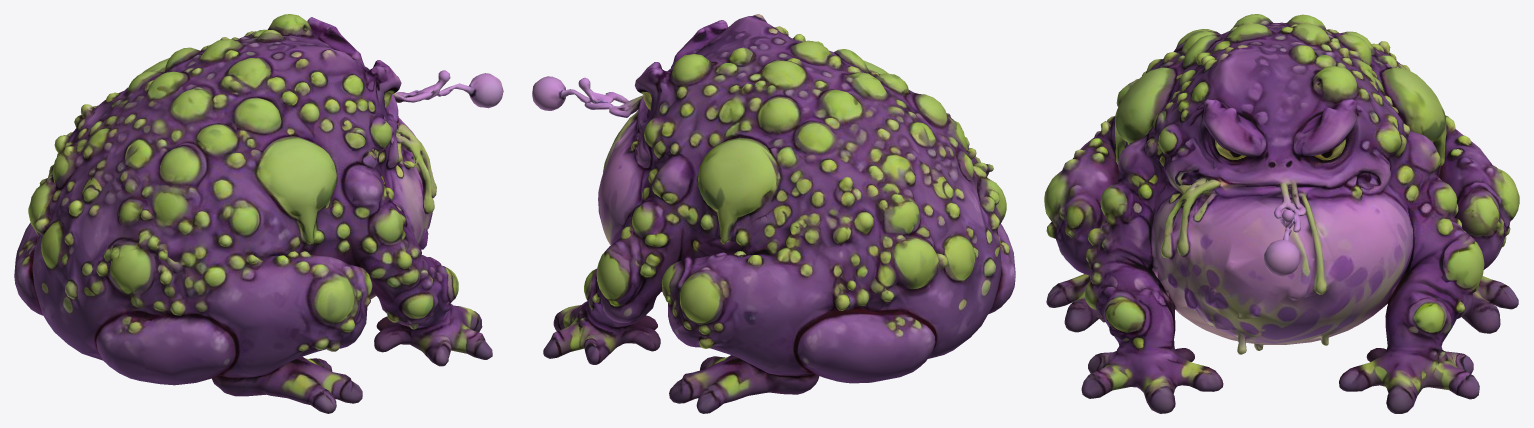
File: n4_gloomtoad.473db474.glb
3 views of the same model, side by side, from view 1: azimuth 30°, elevation 25°; view 2: azimuth 150°, elevation 25°; view 3: azimuth 270°, elevation 25° (orthographic). The views are drawn at different scales.
Parts seen in each view (by area): view 1: tripo_node_88fc54d7-623c-47f8-9324-b243babddf53; view 2: tripo_node_88fc54d7-623c-47f8-9324-b243babddf53; view 3: tripo_node_88fc54d7-623c-47f8-9324-b243babddf53.
Boxes of the visible parts, x1,y1,x2,y2 form: tripo_node_88fc54d7-623c-47f8-9324-b243babddf53: (14,14,503,413); tripo_node_88fc54d7-623c-47f8-9324-b243babddf53: (532,14,1015,413); tripo_node_88fc54d7-623c-47f8-9324-b243babddf53: (1044,14,1519,413).
Bounding box in the file's own units: 0.9994 × 0.6118 × 0.8744.
1 material, 1 textured.
